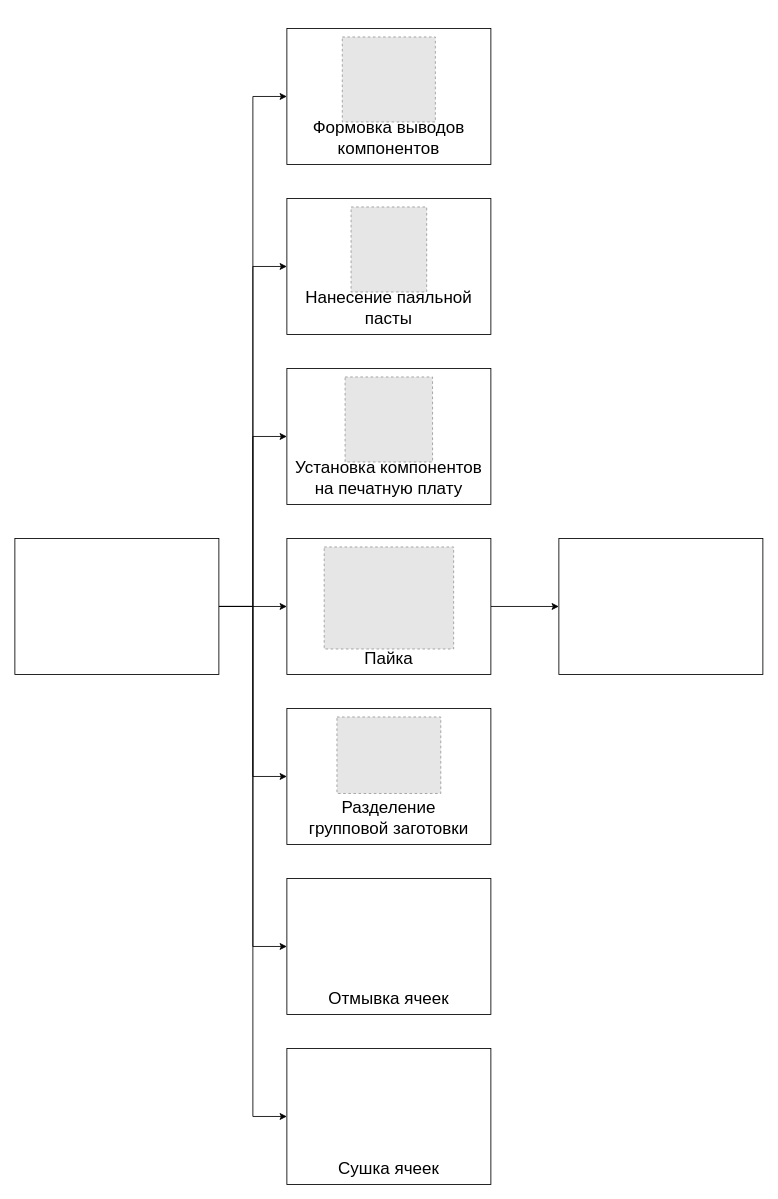
The diagram is 778 pixels wide and 1199 high, and some of its shapes have lost their labels. Grey dashed boxes stand in for pictures. The centre of each missing label's shape, as x and y in pixels:
"2-я страница" belongs at pixel 660 606.
"База оборудования для выполнения технических операций" belongs at pixel 116 606.
